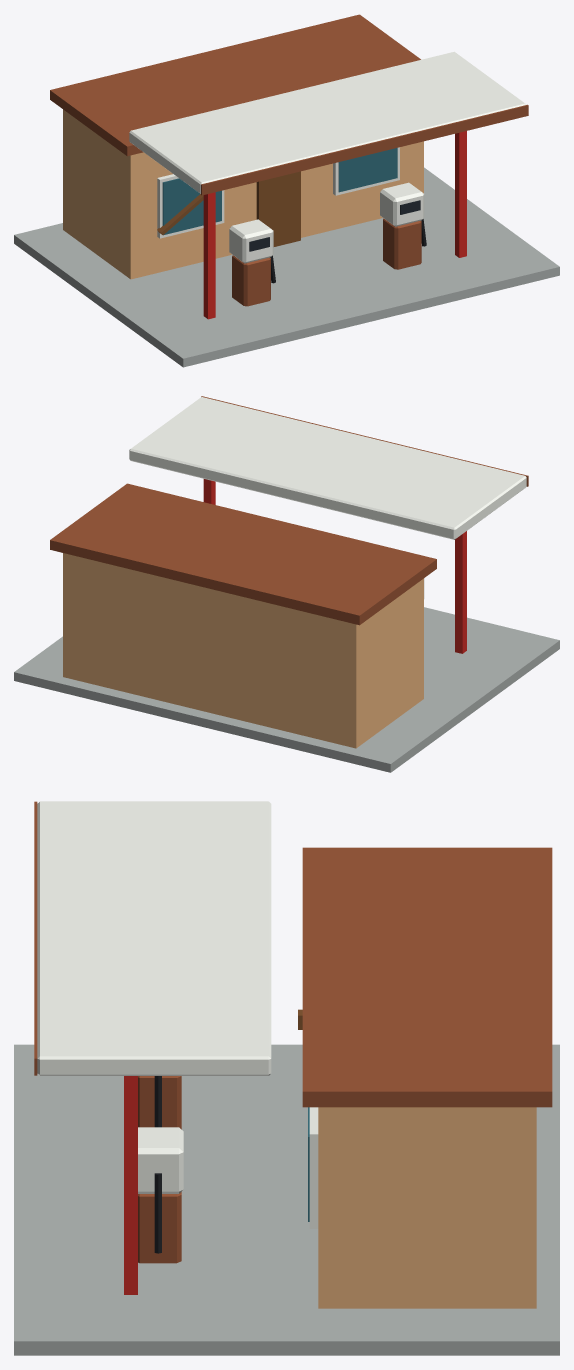
File: abandoned_gas_station.glb
The picture shows the model from 3 angles, top to bottom: view 1: azimuth 30°, elevation 25°; view 2: azimuth 150°, elevation 25°; view 3: azimuth 270°, elevation 25°; orthographic projection. The views are drawn at different scales.
Visible parts, largest first — view 1: abandoned_gas_station__static; view 2: abandoned_gas_station__static; view 3: abandoned_gas_station__static.
Part boxes in pixels (bbox=[...]): abandoned_gas_station__static: bbox=[14, 14, 559, 367]; abandoned_gas_station__static: bbox=[14, 396, 559, 772]; abandoned_gas_station__static: bbox=[14, 801, 559, 1355].
Bounding box in the file's own units: 9 × 3.94 × 7.
